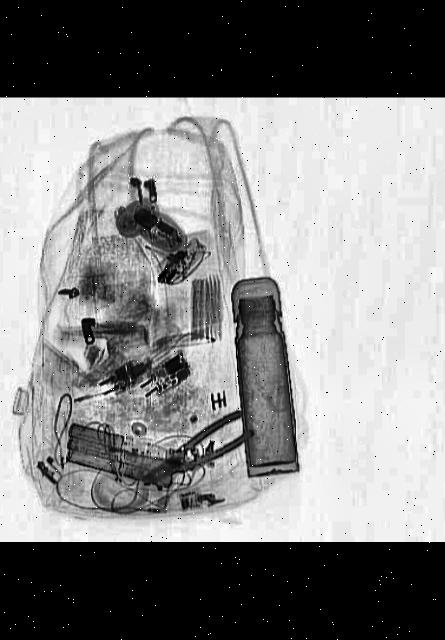Pliers: (127, 408, 260, 494)
